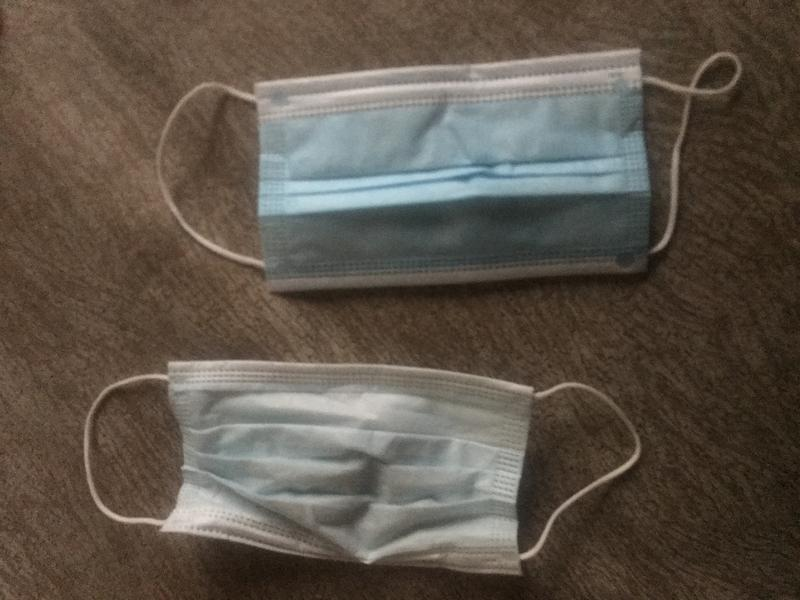medical_mask: (158, 48, 741, 291), (81, 359, 643, 579)
